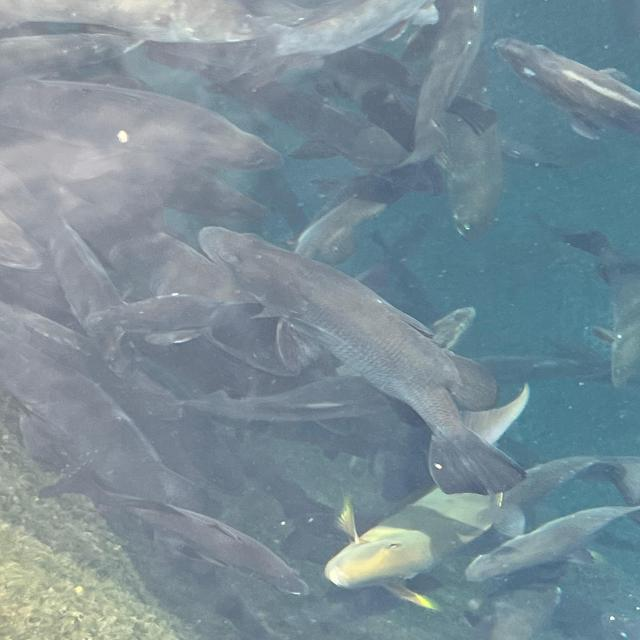ikan: (180, 213, 582, 411), (307, 473, 506, 586)
